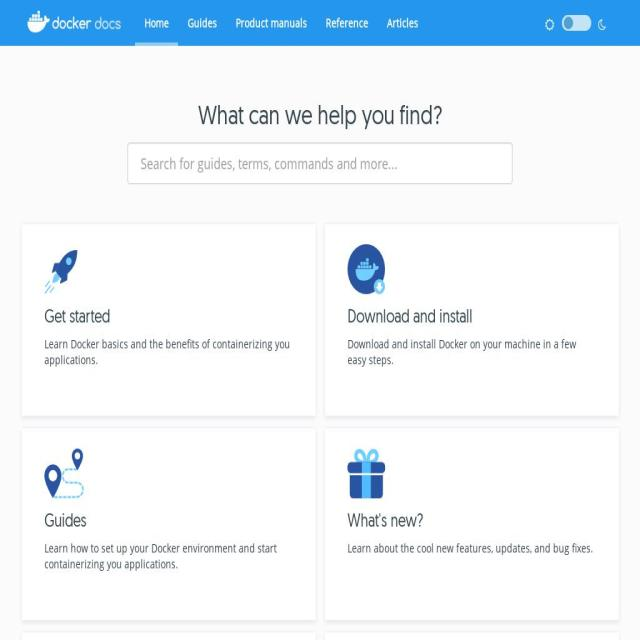button: (21, 223, 316, 416), (324, 223, 619, 416), (21, 428, 316, 620), (324, 428, 619, 620), (17, 0, 135, 42), (226, 0, 316, 46), (316, 0, 378, 46), (21, 631, 315, 640), (324, 631, 618, 640), (378, 0, 428, 46), (178, 0, 226, 46), (135, 0, 178, 46)
field: (127, 143, 513, 184)
heading: (26, 104, 614, 131), (44, 308, 293, 328), (347, 308, 596, 328), (44, 512, 293, 532), (347, 512, 596, 532)
image: (26, 10, 126, 33), (44, 448, 84, 498), (346, 448, 386, 498), (44, 243, 82, 294), (347, 243, 385, 294), (562, 15, 590, 29)
link: (44, 539, 293, 572), (44, 335, 293, 367), (347, 335, 596, 367), (347, 539, 596, 556)
